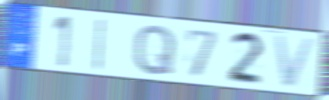1: (51, 15, 73, 68)
2: (227, 30, 267, 88)
7: (184, 27, 220, 79)
I: (92, 17, 108, 72)
Q: (131, 22, 177, 77)
V: (271, 32, 319, 90)
